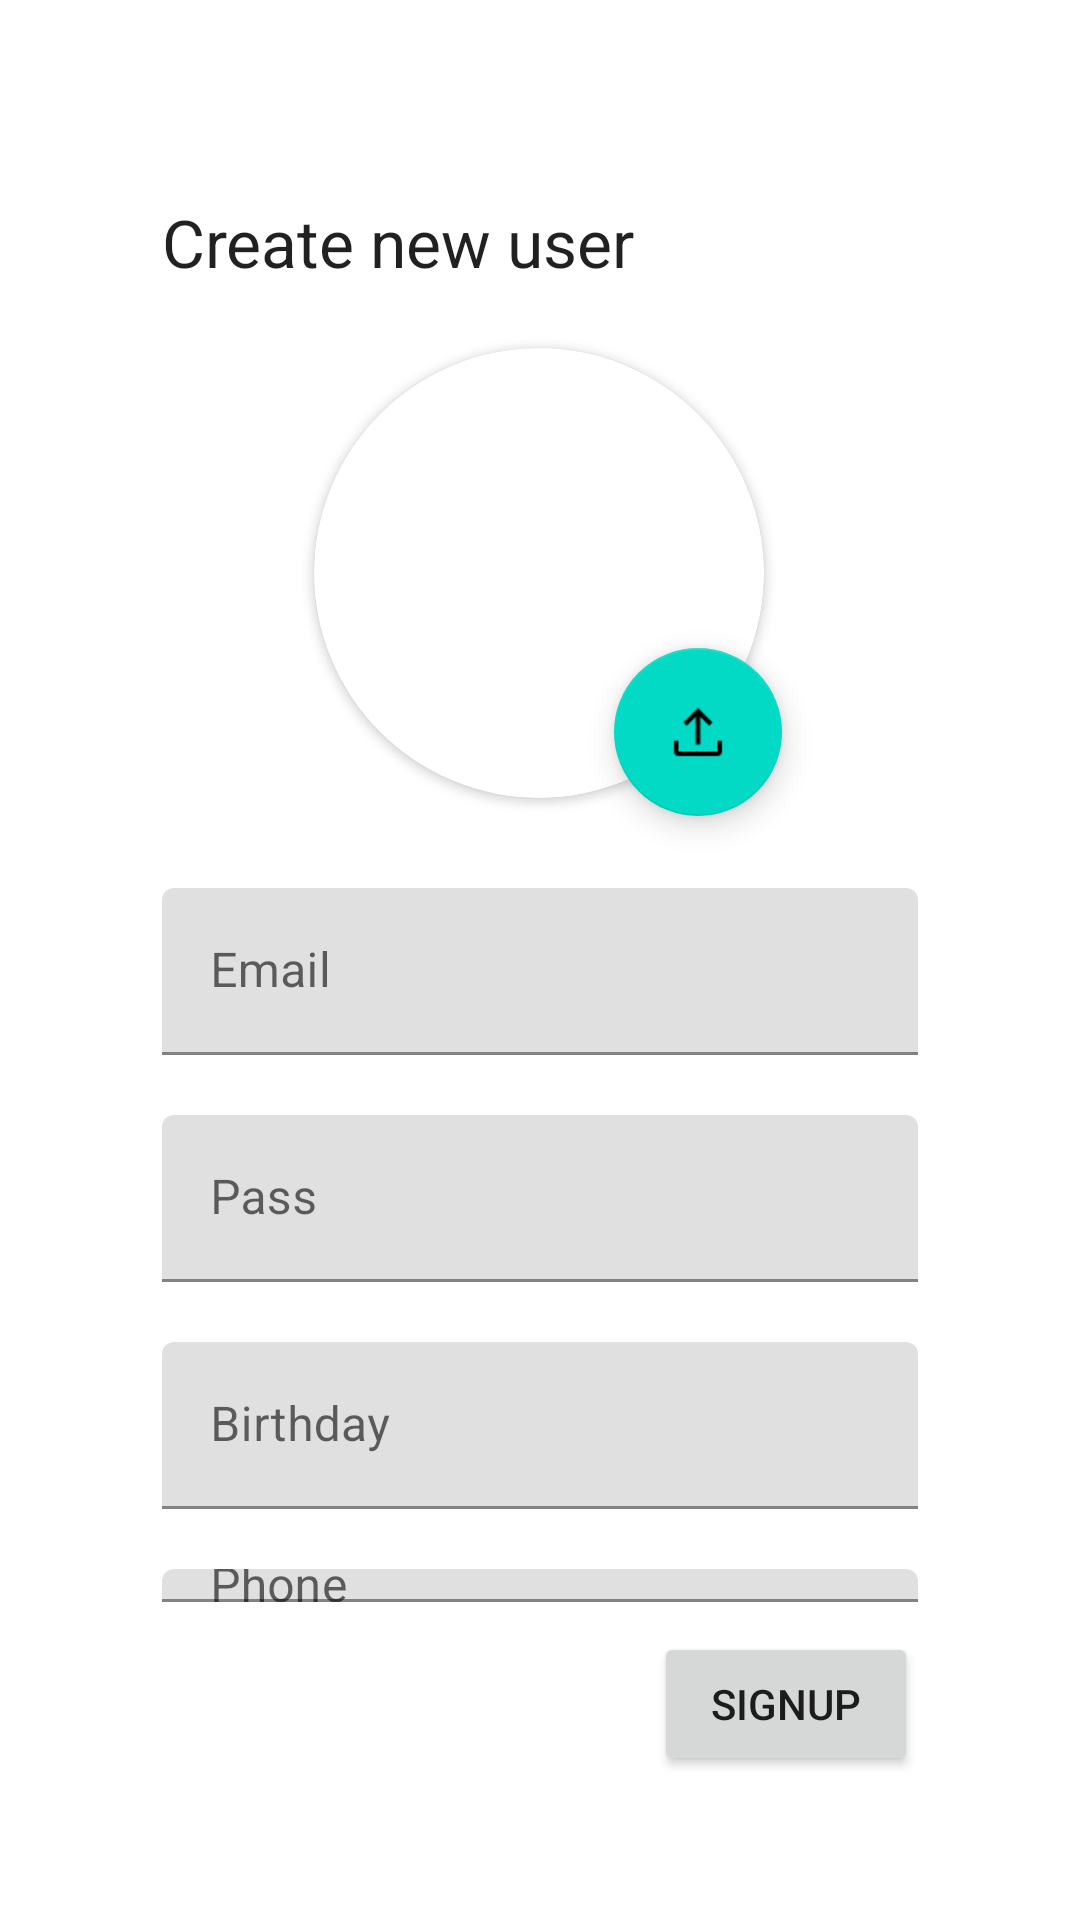

Where icons sit on this 1080px×1920px app screen, as bbox(x1, y1, x2, y2):
file upload: bbox(614, 648, 782, 816)
